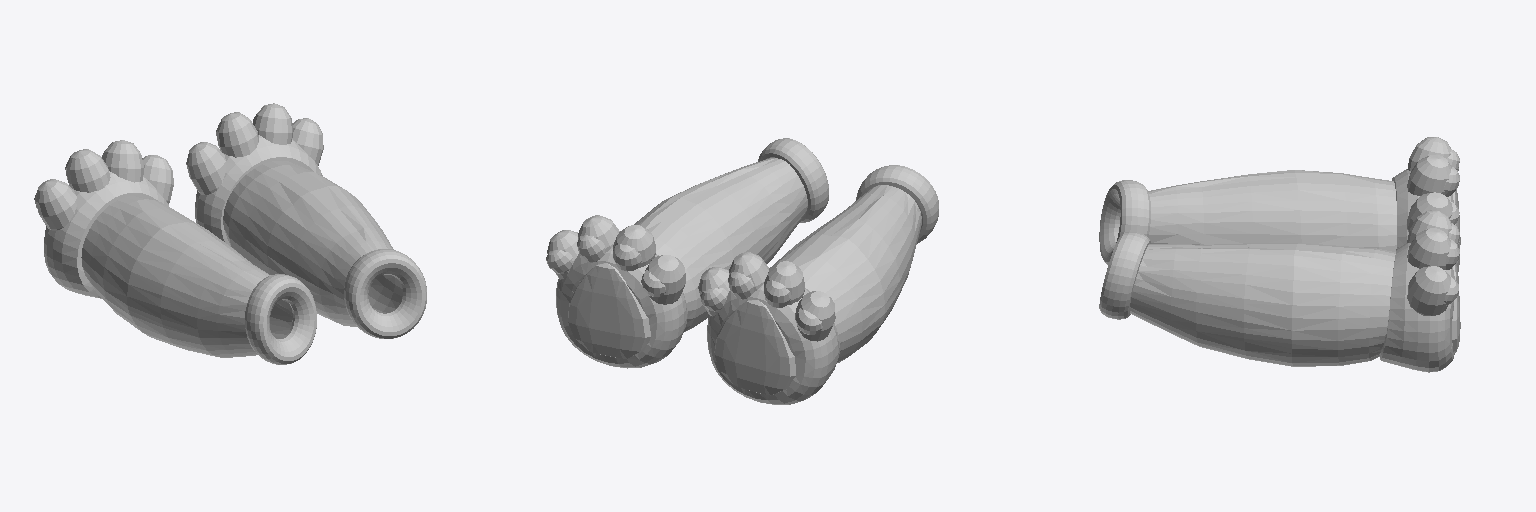
File: boots3rdgen.obj
3 renders of one model, left to right at view 1: azimuth 30°, elevation 25°; view 2: azimuth 150°, elevation 25°; view 3: azimuth 270°, elevation 25°, orthographic.
Parts seen in each view (by area): view 1: Boots; view 2: Boots; view 3: Boots.
Boxes of the visible parts, <box> form: Boots: <box>34,103,426,364</box>; Boots: <box>546,138,938,404</box>; Boots: <box>1099,137,1460,372</box>.
Size of the model in its own units: 51.07 by 24.72 by 56.53.